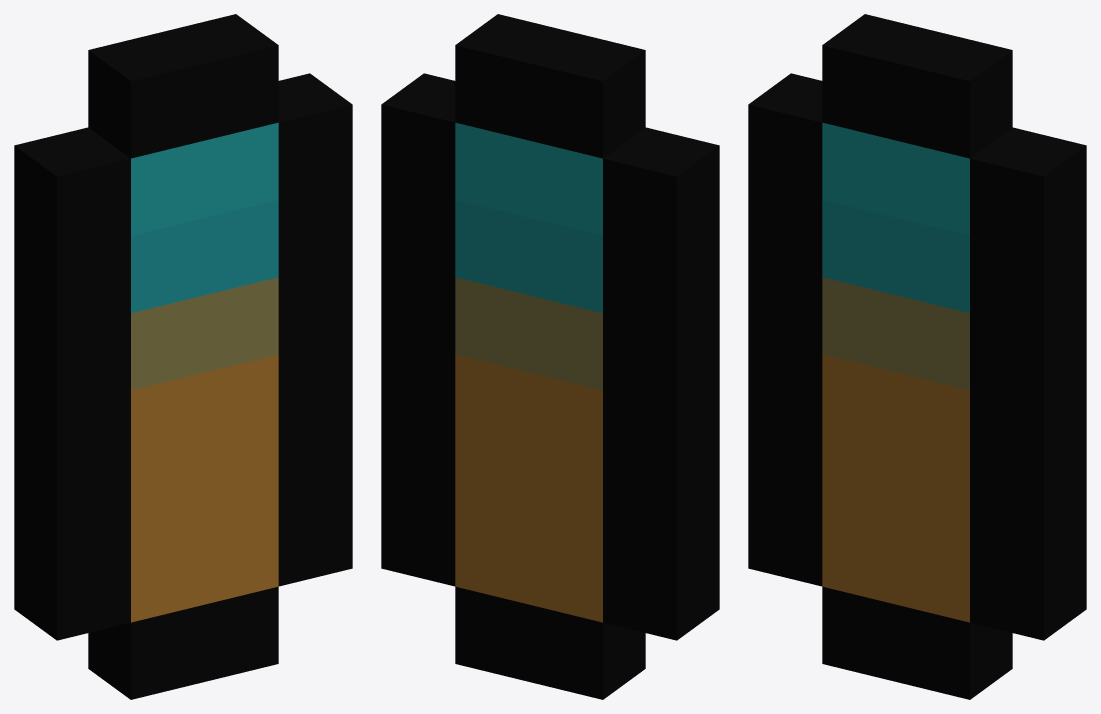
Rendered from Cyan Torch.glb.
3 renders of one model, left to right at view 1: azimuth 30°, elevation 25°; view 2: azimuth 150°, elevation 25°; view 3: azimuth 330°, elevation 25°, orthographic.
Visible parts, largest first — view 1: generated(Clone); view 2: generated(Clone); view 3: generated(Clone).
Part boxes in pixels (x1=…): generated(Clone): x1=14, y1=14, x2=352, y2=699; generated(Clone): x1=381, y1=14, x2=719, y2=699; generated(Clone): x1=748, y1=14, x2=1086, y2=699.
Size of the model in its own units: 4 by 8 by 1.
1 material, 1 textured.
